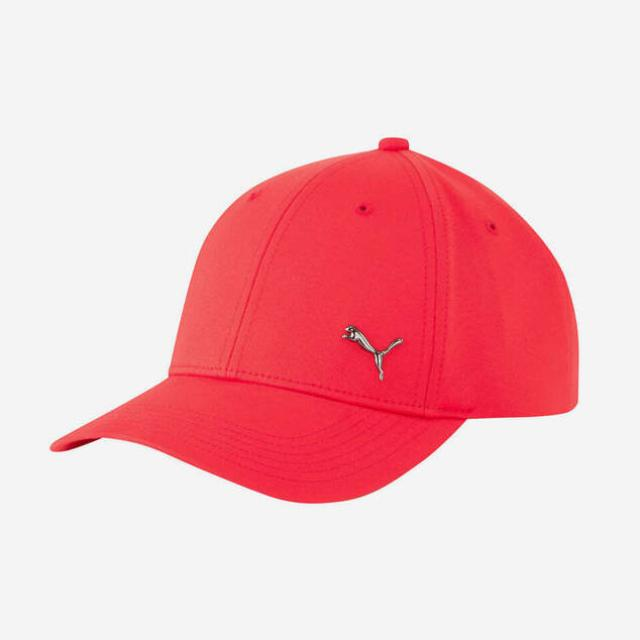Nonhelmet: (48, 134, 582, 506)
